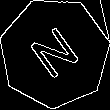N_SE: (24, 21, 85, 85)
